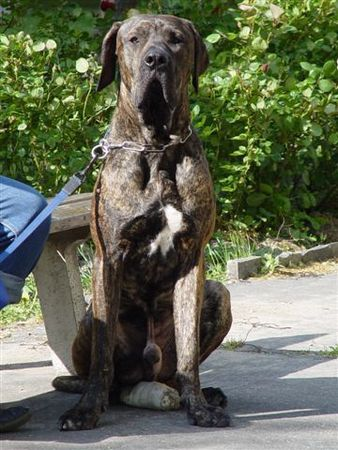fila_brasileiro: (50, 13, 233, 430)
